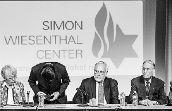bending: (26, 59, 70, 110)
